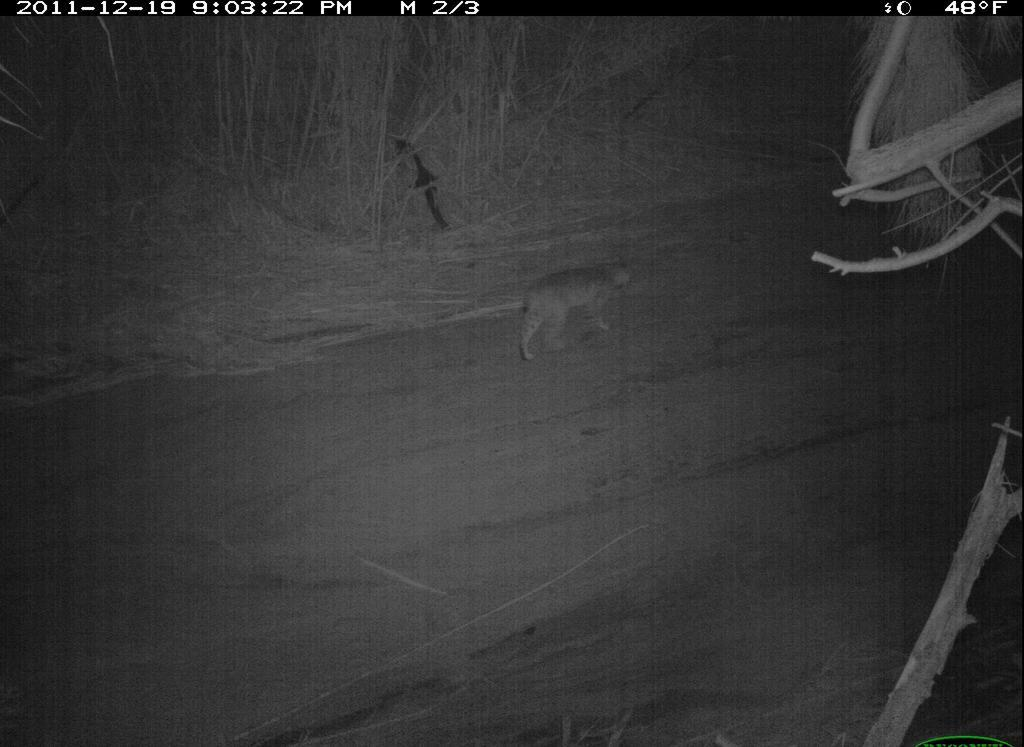bobcat: (498, 241, 648, 392)
